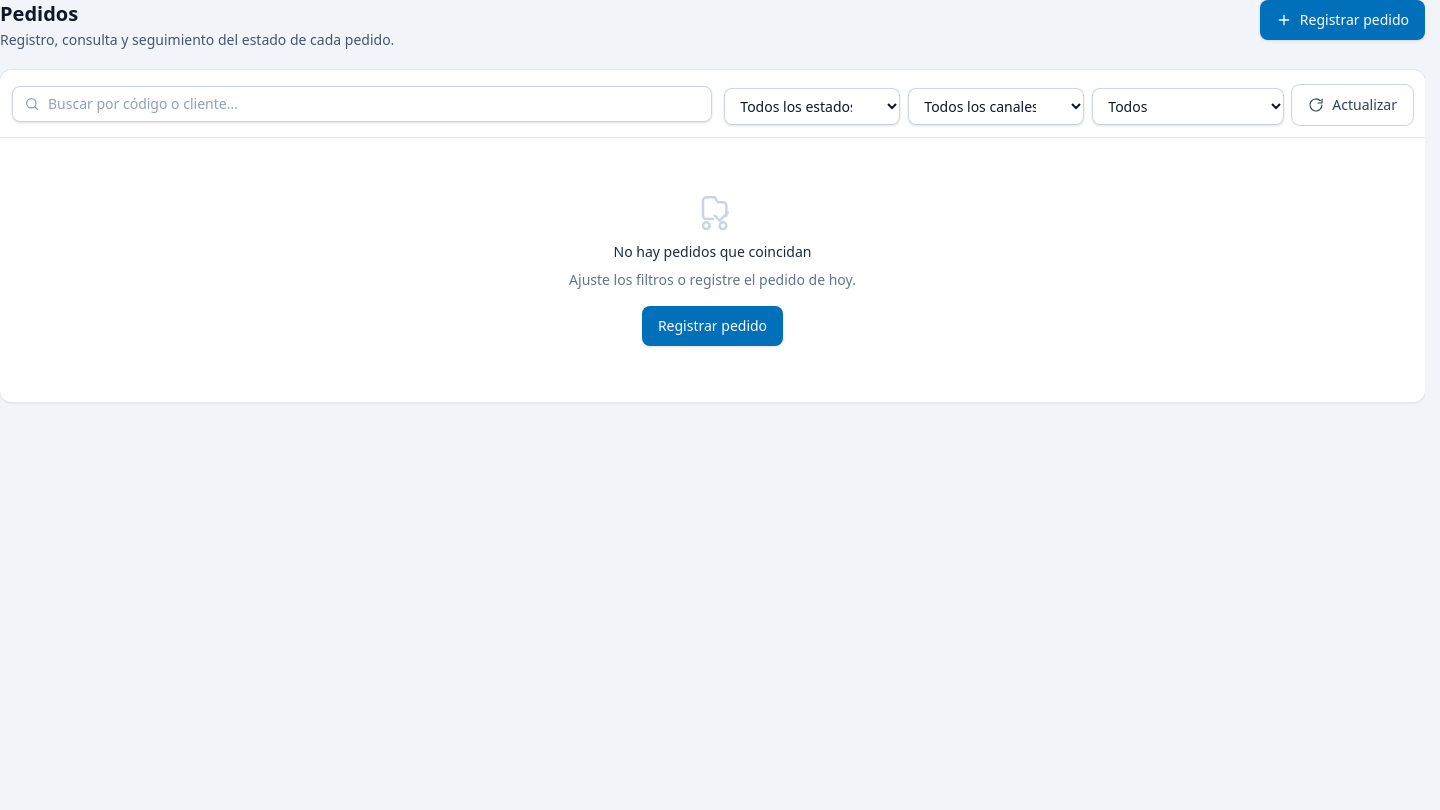
autocompletado de cliente › la ficha del cliente elegido sobrevive a limpiar el buscador
Click the 1st button "Registrar pedido" at (1342, 20), box [1260,0,1425,40]
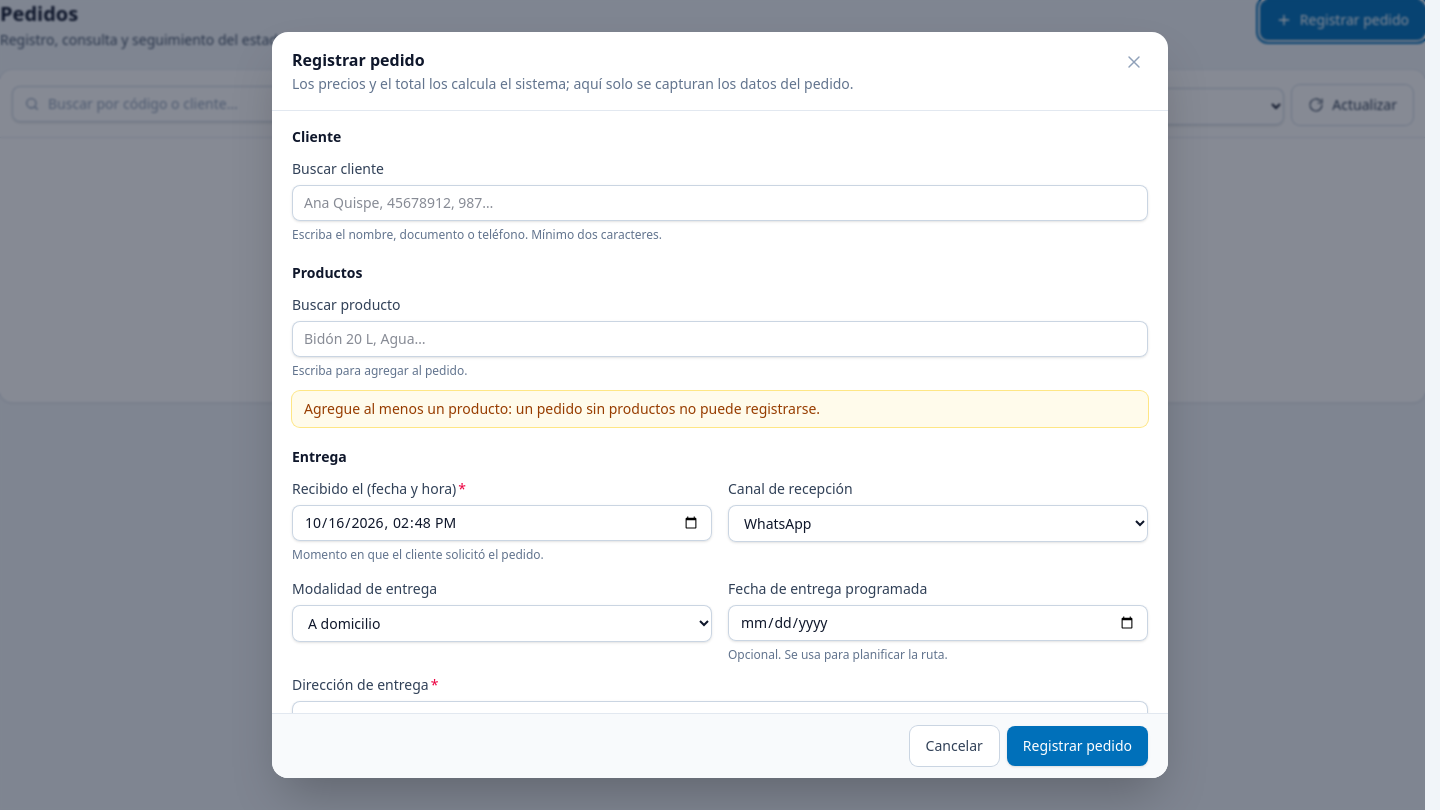
Type "Qu" into the field labelled "Buscar cliente" at (720, 203), box [292,185,1148,221]
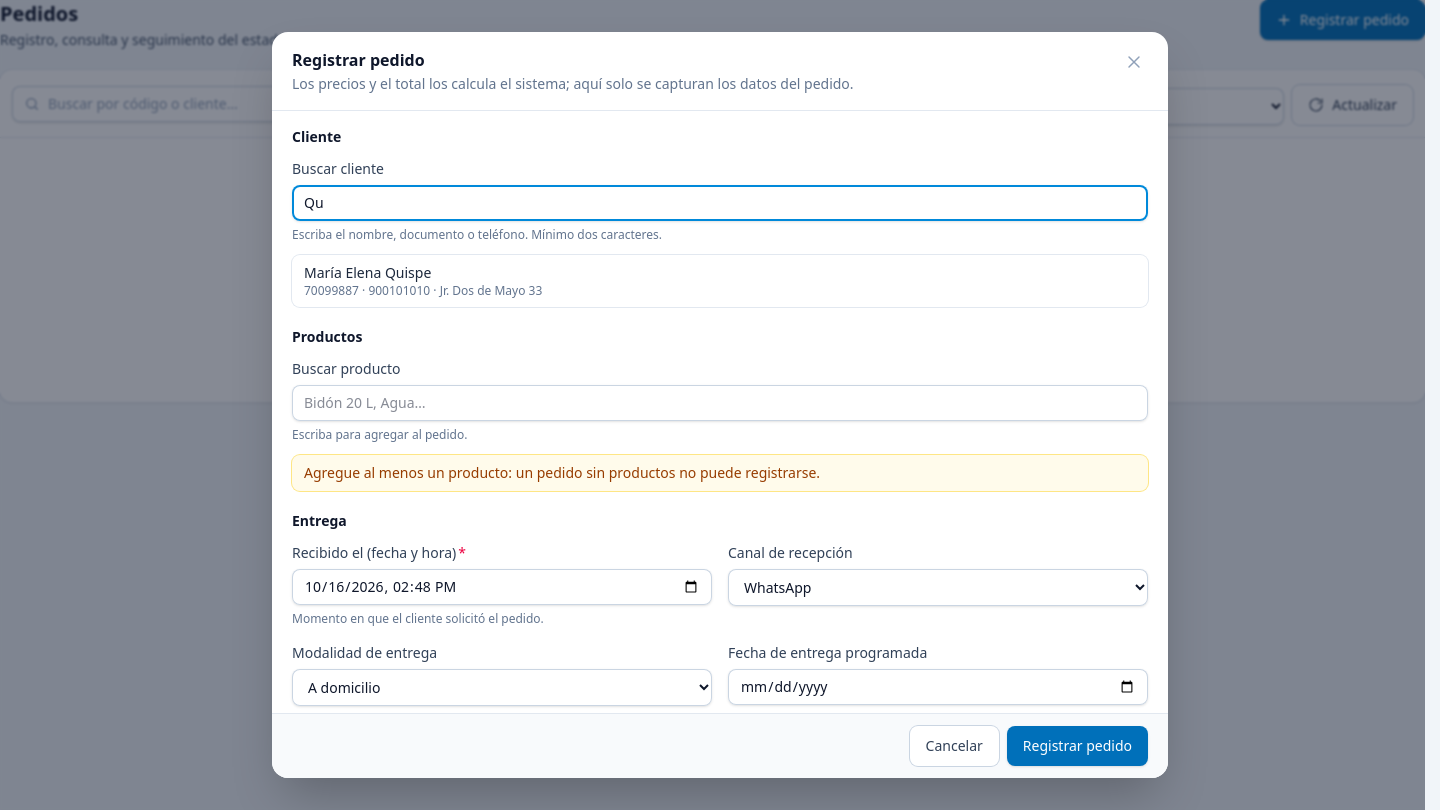
Click the button "María Elena Quispe 70099887 · 900101010 · Jr. Dos de Mayo 33" at (368, 273), box [292,255,1148,307]
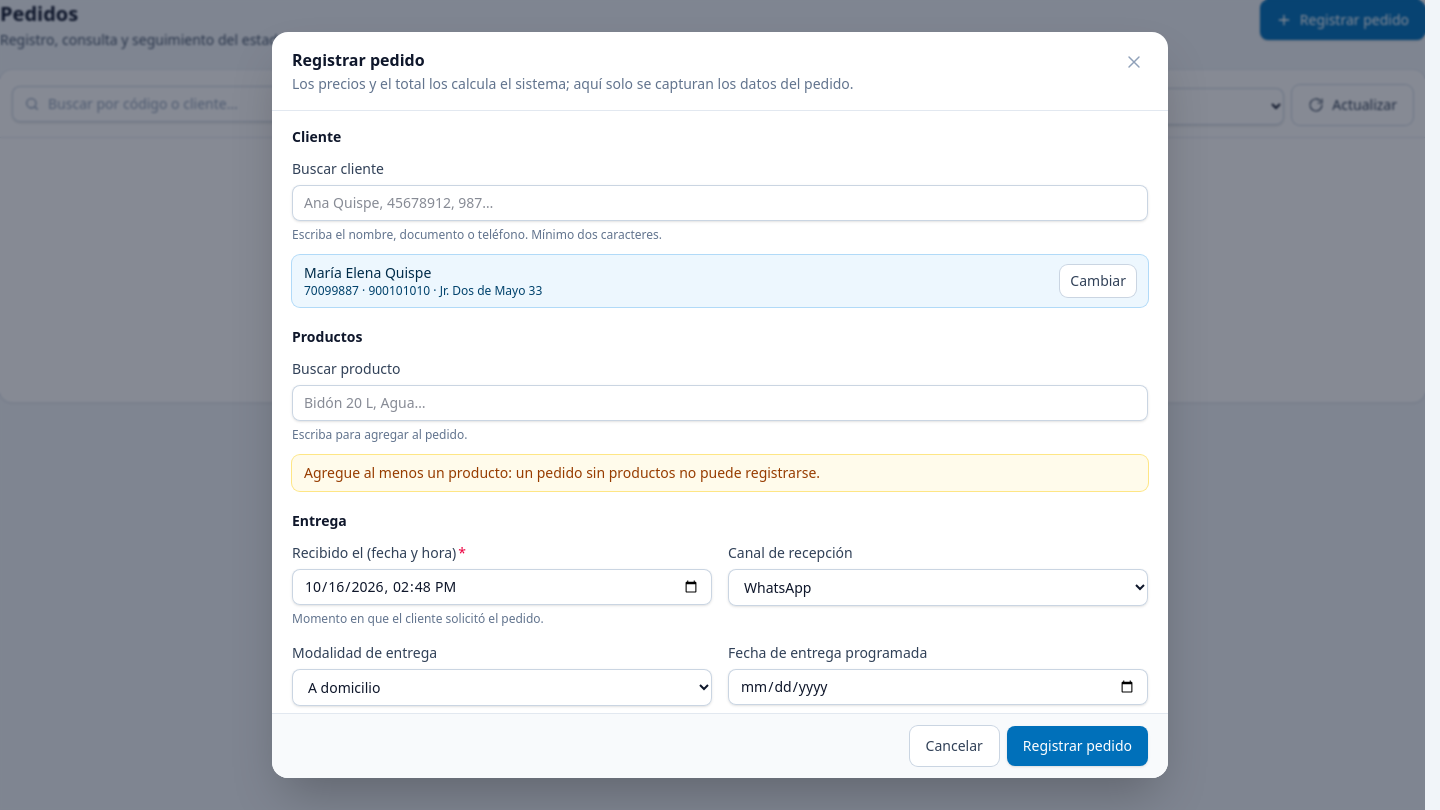
Expected: the text "María Elena Quispe" is shown, [304,263,431,282]
Expected: the field labelled "Buscar cliente" is empty, [292,185,1148,221]
Expected: the button "Cambiar" is shown, [1060,265,1136,297]
